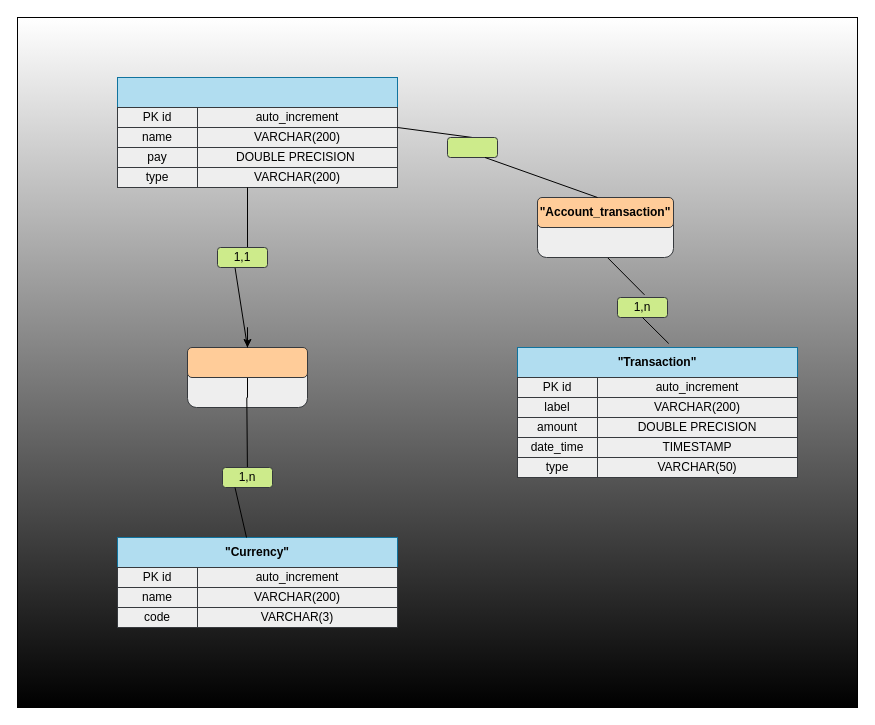
Image size: 875x725. Some labels were removed from this diagram. The box of each missing label's shape, as (x1, y1, x2, y2) in pixels:
"Account": (116, 76, 398, 108)
0,n: (446, 136, 498, 158)
have_currency: (186, 346, 308, 378)
